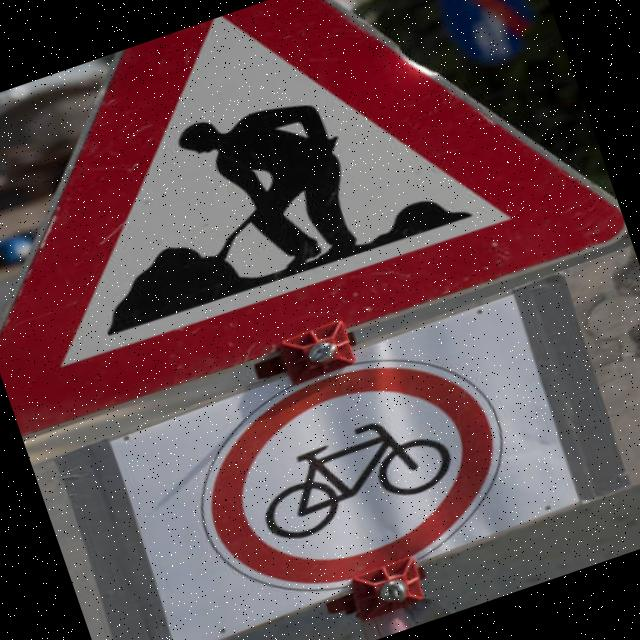road_work: (0, 0, 633, 456)
